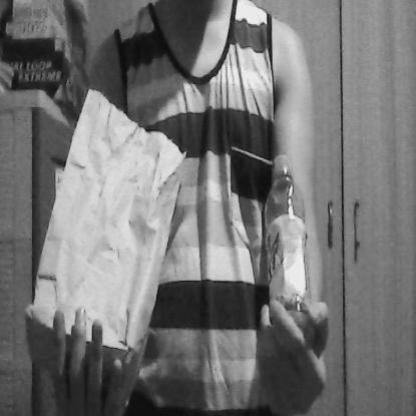Plastic Bottle: (258, 147, 324, 352)
